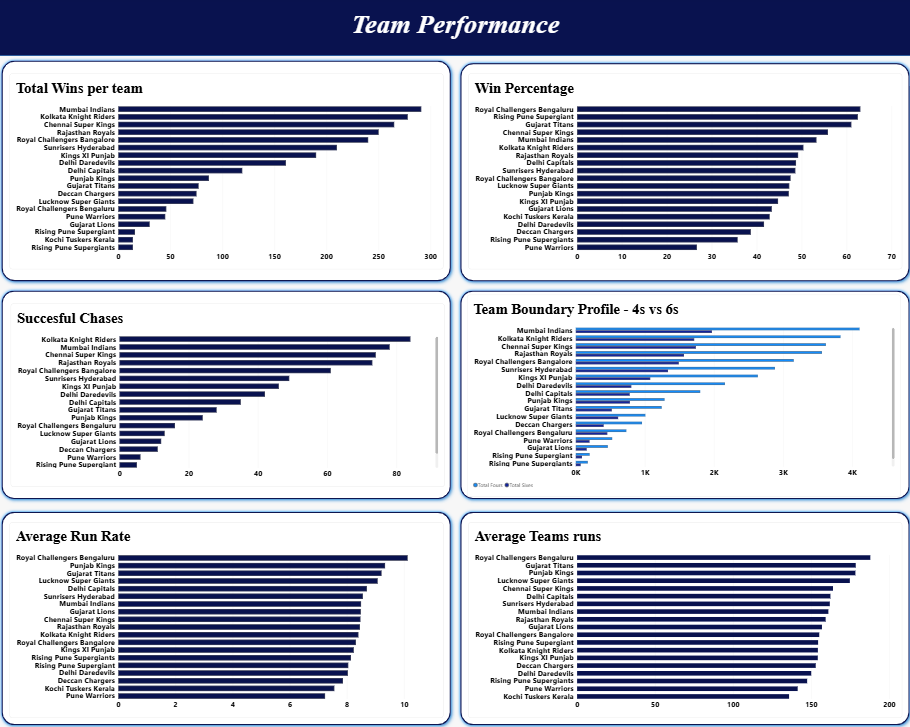

What the dashboard file says about the page in this screenshot:
{"tool":"powerbi","page":{"name":"Page 3","canvas":[2500,2000],"ordinal":2},"visuals":[{"type":"shape","box":[0,1393.3,1250,606.7],"z":0},{"type":"shape","box":[0,163.3,1250,626.7],"z":1000},{"type":"shape","box":[1250,1393.3,1250,606.7],"z":2000},{"type":"shape","box":[0,0,2500,162.9],"z":3000},{"type":"shape","box":[1250,170,1250,620],"z":4000},{"type":"textbox","box":[0,34.3,2500,128.6],"z":5000},{"type":"clusteredBarChart","title":"Total Wins per team","fields":{"Category":["public ipl_data.batting_team"],"Y":["public ipl_data.Total Wins"]},"box":[33.3,210,1183.3,533.3],"z":6000},{"type":"clusteredBarChart","title":"Average Run Rate","fields":{"Category":["public ipl_data.batting_team"],"Y":["public ipl_data.Team Run Rate"]},"box":[33.3,1433.3,1183.3,533.3],"z":7000},{"type":"clusteredBarChart","title":"Win Percentage","fields":{"Category":["public ipl_data.batting_team"],"Y":["public ipl_data.Team Win Percentage"]},"box":[1283.3,210,1183.3,533.3],"z":8000},{"type":"clusteredBarChart","title":"Average Teams runs","fields":{"Category":["public ipl_data.batting_team"],"Y":["public ipl_data.Average Team Runs"]},"box":[1283.3,1433.3,1183.3,533.3],"z":9000},{"type":"shape","box":[0,790,1250,593.3],"z":10000},{"type":"shape","box":[1250,790,1250,593.3],"z":11000},{"type":"clusteredBarChart","title":"Succesful Chases","fields":{"Category":["public ipl_data.batting_team"],"Y":["public ipl_data.Successful Chases"]},"box":[36.7,840,1183.3,500],"z":12000},{"type":"clusteredBarChart","title":"Team Boundary Profile - 4s vs 6s","fields":{"Category":["public ipl_data.batting_team"],"Y":["public ipl_data.Total Fours","public ipl_data.Total Sixes"]},"box":[1280,813.3,1183.3,550],"z":13000}]}

Visuals, with their boxes in screenshot pixels (x1, y1, x2, y2), scaled from the page's 2500x2000 canvas onto the 910x727 screenshot:
shape: [x1=0, y1=506, x2=455, y2=726]
shape: [x1=0, y1=59, x2=455, y2=287]
shape: [x1=455, y1=506, x2=909, y2=726]
shape: [x1=0, y1=0, x2=909, y2=59]
shape: [x1=455, y1=62, x2=909, y2=287]
textbox: [x1=0, y1=12, x2=909, y2=59]
"Total Wins per team" clusteredBarChart: [x1=12, y1=76, x2=443, y2=270]
"Average Run Rate" clusteredBarChart: [x1=12, y1=521, x2=443, y2=715]
"Win Percentage" clusteredBarChart: [x1=467, y1=76, x2=898, y2=270]
"Average Teams runs" clusteredBarChart: [x1=467, y1=521, x2=898, y2=715]
shape: [x1=0, y1=287, x2=455, y2=503]
shape: [x1=455, y1=287, x2=909, y2=503]
"Succesful Chases" clusteredBarChart: [x1=13, y1=305, x2=444, y2=487]
"Team Boundary Profile - 4s vs 6s" clusteredBarChart: [x1=466, y1=296, x2=897, y2=496]
